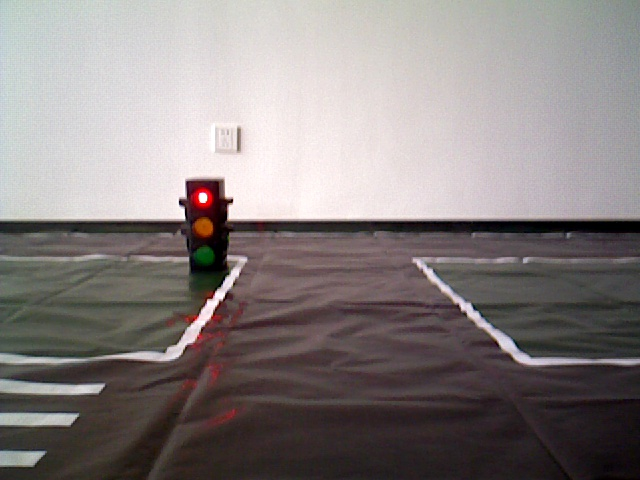red: (185, 180, 223, 273)
